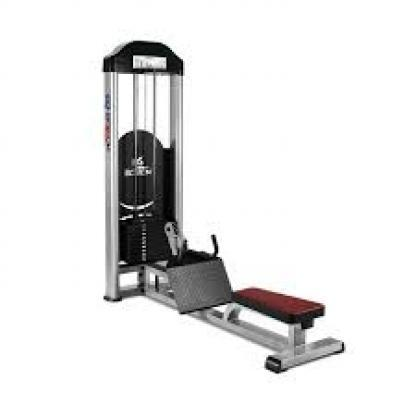Seated Cable Rows: (91, 32, 362, 375)
